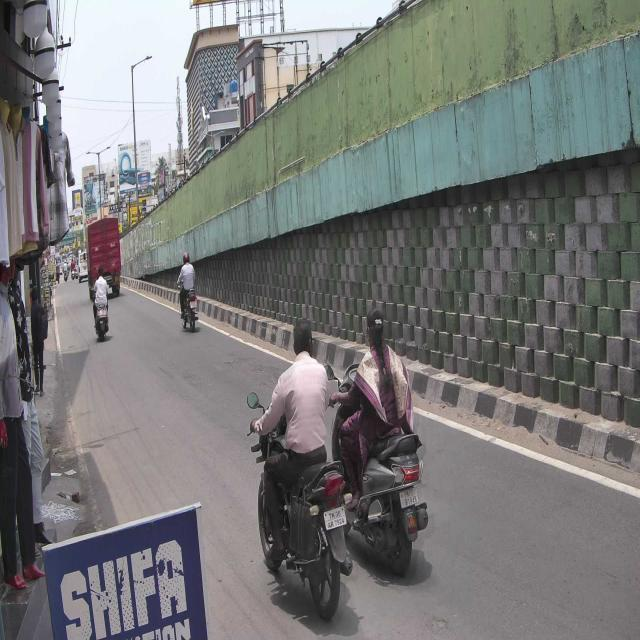single_rider: (244, 314, 350, 616), (352, 304, 430, 576)
